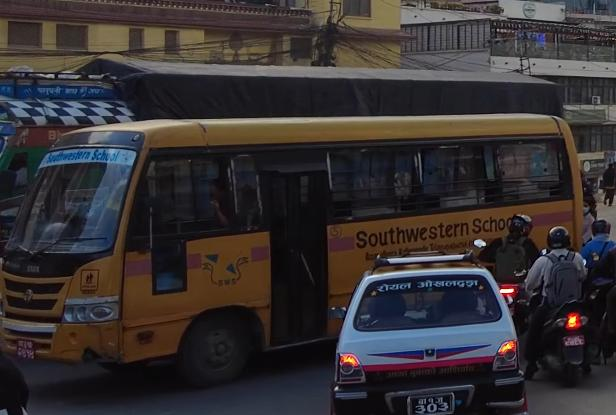school_bus: (0, 108, 586, 397)
taxi: (322, 246, 534, 415)
